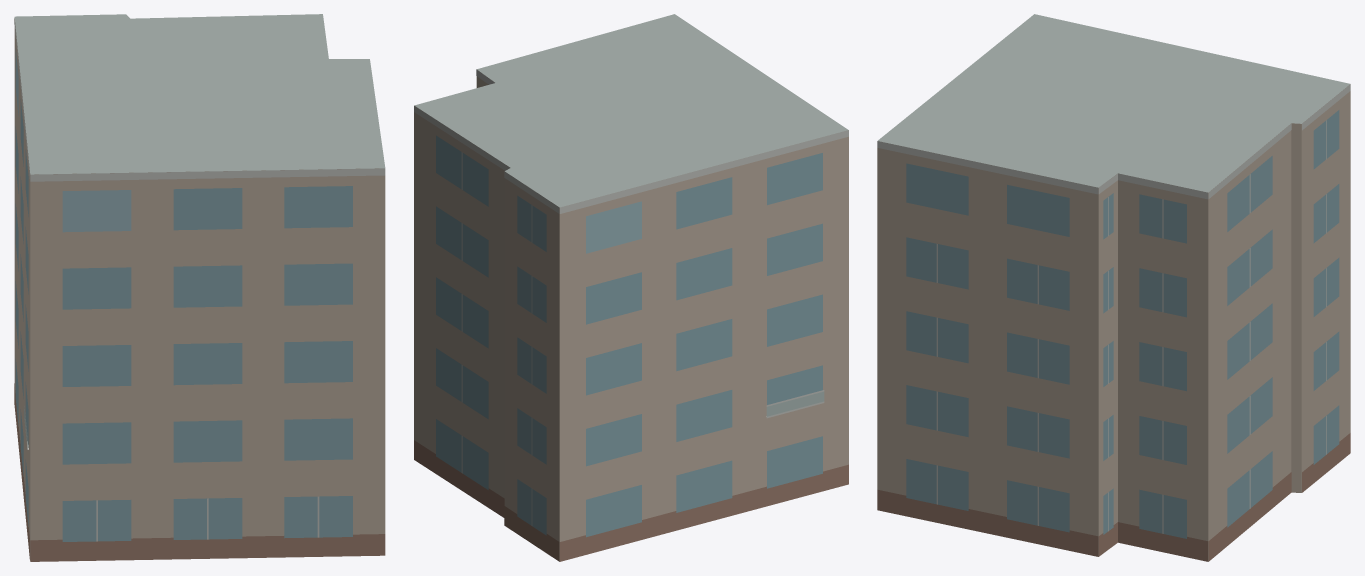
File: survey-upis-32693290.glb
3 views of the same model, side by side, from view 1: azimuth 30°, elevation 25°; view 2: azimuth 150°, elevation 25°; view 3: azimuth 270°, elevation 25° (orthographic). The views are drawn at different scales.
Parts seen in each view (by area): view 1: survey-upis-32693290.tmp; view 2: survey-upis-32693290.tmp; view 3: survey-upis-32693290.tmp.
Part boxes in pixels (x1=…): survey-upis-32693290.tmp: x1=14, y1=14, x2=385, y2=561; survey-upis-32693290.tmp: x1=414, y1=14, x2=848, y2=561; survey-upis-32693290.tmp: x1=877, y1=14, x2=1350, y2=561.
Size of the model in its own units: 13.6 by 13.1 by 15.23.
